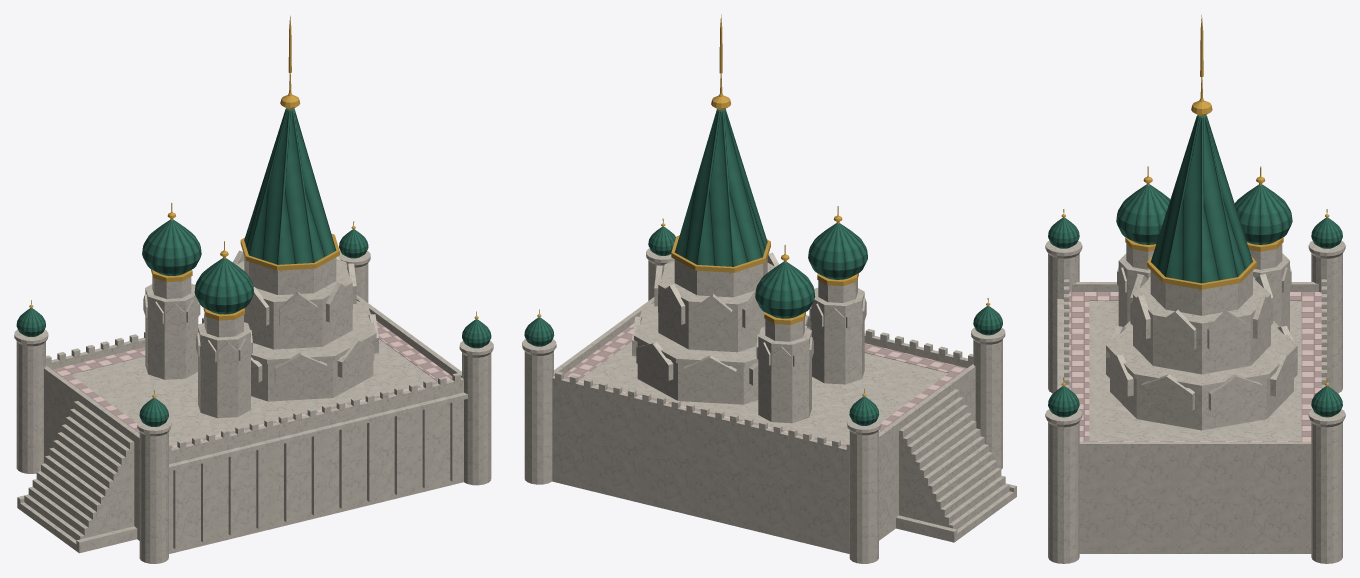
File: CreBuild01.glb
3 views of the same model, side by side, from view 1: azimuth 30°, elevation 25°; view 2: azimuth 150°, elevation 25°; view 3: azimuth 270°, elevation 25° (orthographic). The views are drawn at different scales.
Parts seen in each view (by area): view 1: palace_marble; view 2: palace_marble; view 3: palace_marble.
Boxes of the visible parts, <box> form: palace_marble: <box>14,16,493,563</box>; palace_marble: <box>522,14,1016,563</box>; palace_marble: <box>1045,15,1345,563</box>.
Bounding box in the file's own units: 18.82 × 20.7 × 11.74.
Materials: 4 (3 with a texture image).
